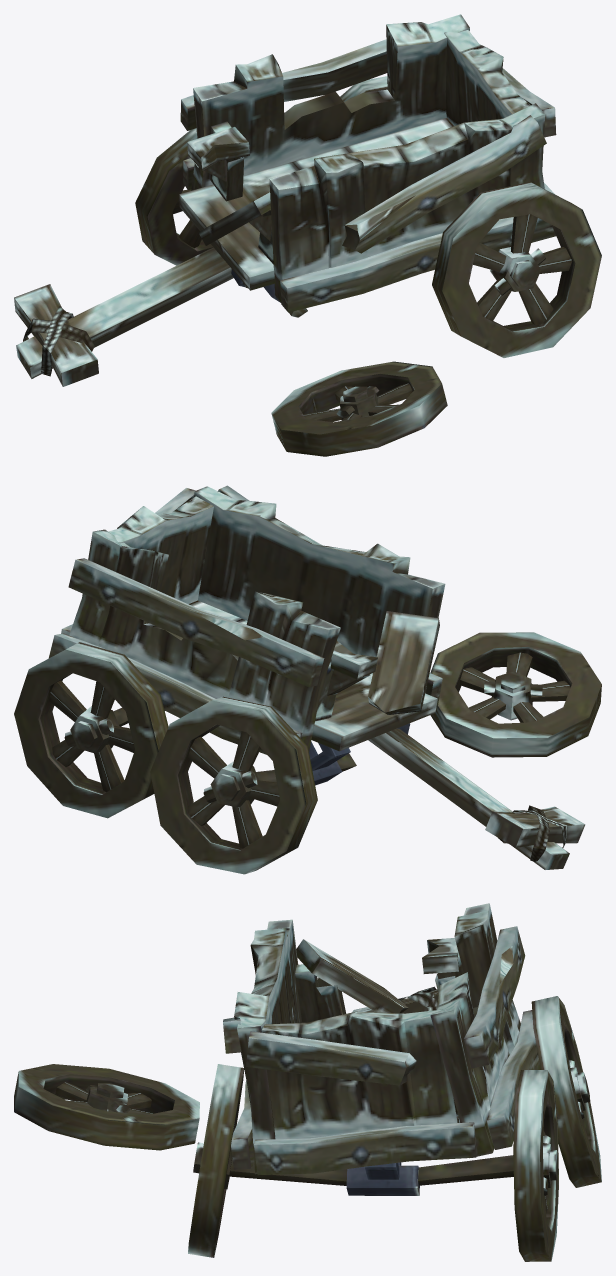
3 views of the same model, one above another, from view 1: azimuth 30°, elevation 25°; view 2: azimuth 150°, elevation 25°; view 3: azimuth 270°, elevation 25° (orthographic). The views are drawn at different scales.
Parts seen in each view (by area): view 1: X_wj6; view 2: X_wj6; view 3: X_wj6.
Part boxes in pixels (x1,y1,x2,y2): X_wj6: (14,14,601,456); X_wj6: (14,485,601,874); X_wj6: (14,903,601,1261).
Size of the model in its own units: 346 by 167 by 328.
Materials: 1 (1 with a texture image).
